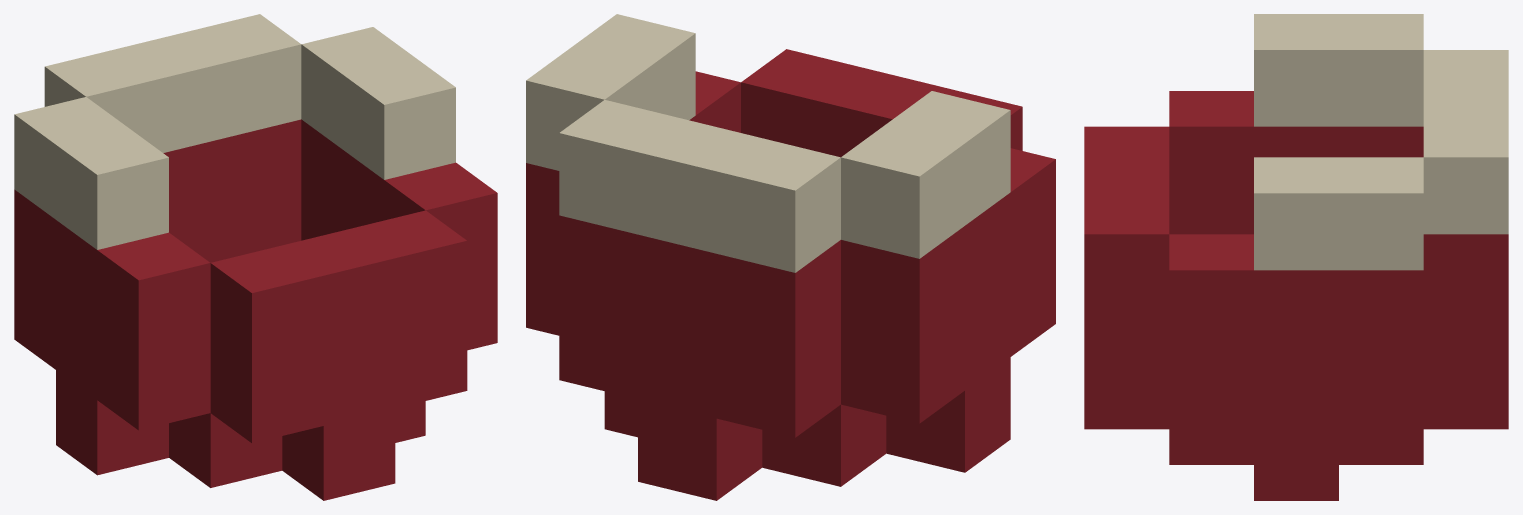
The model's file is Playground_Sand_Bucket_01.glb.
3 views of the same model, side by side, from view 1: azimuth 30°, elevation 25°; view 2: azimuth 150°, elevation 25°; view 3: azimuth 270°, elevation 25° (orthographic). The views are drawn at different scales.
Visible parts, largest first — view 1: Playground_Sand_Bucket_01; view 2: Playground_Sand_Bucket_01; view 3: Playground_Sand_Bucket_01.
Boxes of the visible parts, x1,y1,x2,y2 form: Playground_Sand_Bucket_01: [14, 14, 497, 500]; Playground_Sand_Bucket_01: [526, 14, 1055, 500]; Playground_Sand_Bucket_01: [1084, 14, 1508, 500].
Bounding box in the file's own units: 0.5 × 0.4 × 0.5.
Materials: 1 (1 with a texture image).
